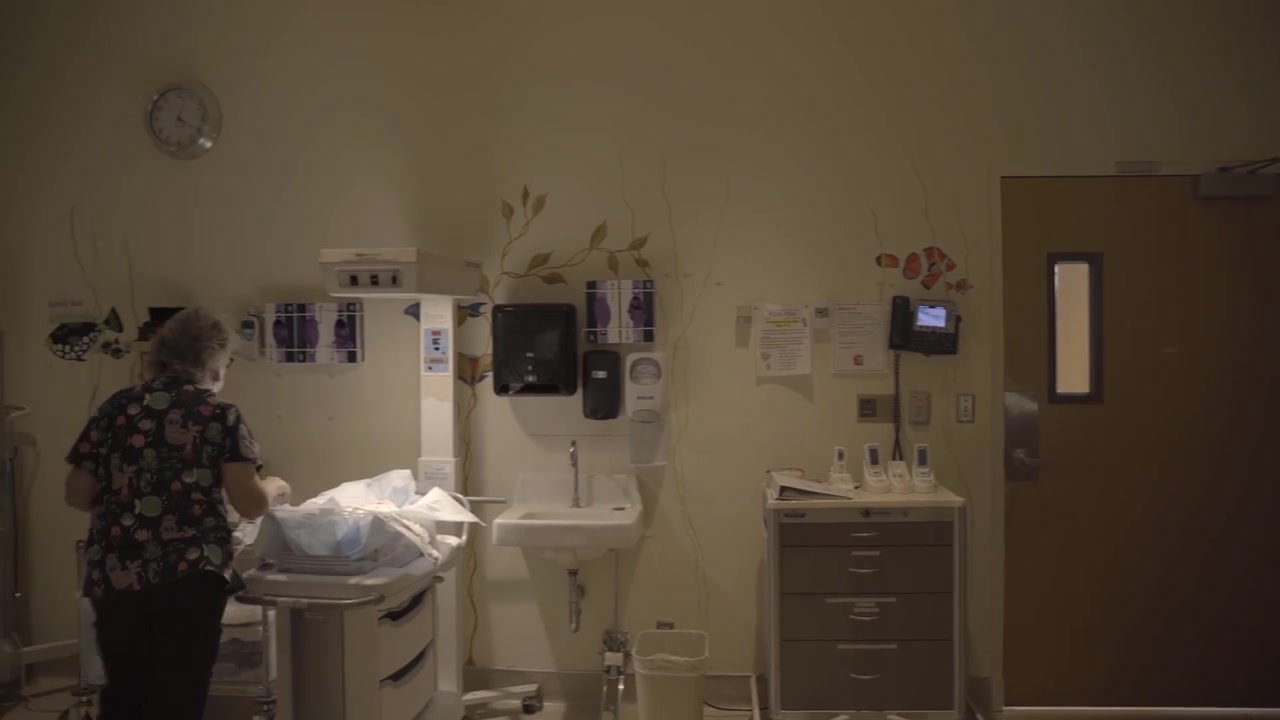dispenser: (491, 303, 577, 397), (624, 350, 668, 470), (583, 350, 619, 421)
door_handle: (1018, 452, 1050, 469)
faucet: (569, 440, 582, 508)
handle: (847, 672, 881, 682), (849, 566, 883, 576), (847, 614, 882, 623), (850, 531, 883, 539)
medical_drawer: (754, 483, 967, 720)
panda_baby_warmer: (261, 246, 486, 719)
sink: (493, 507, 643, 562)
staff: (64, 306, 291, 720)
telephone: (889, 295, 964, 357)
waste_bin: (630, 629, 709, 720)
